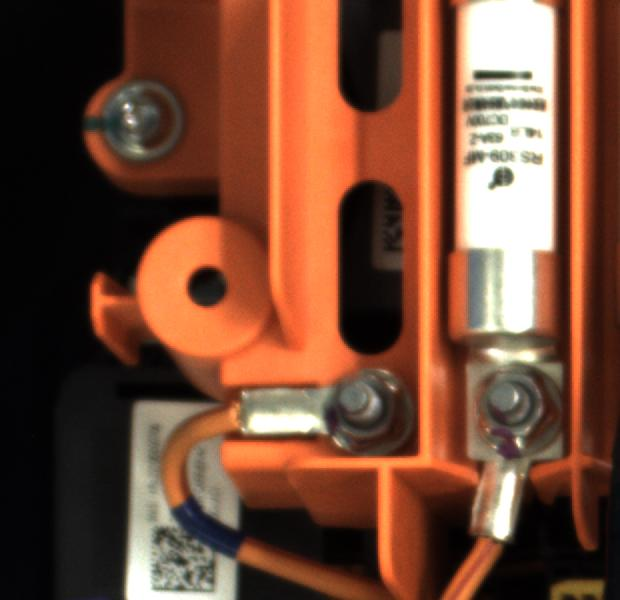screw_m: (86, 73, 193, 175)
screw_s: (309, 360, 413, 457), (458, 362, 564, 456)
